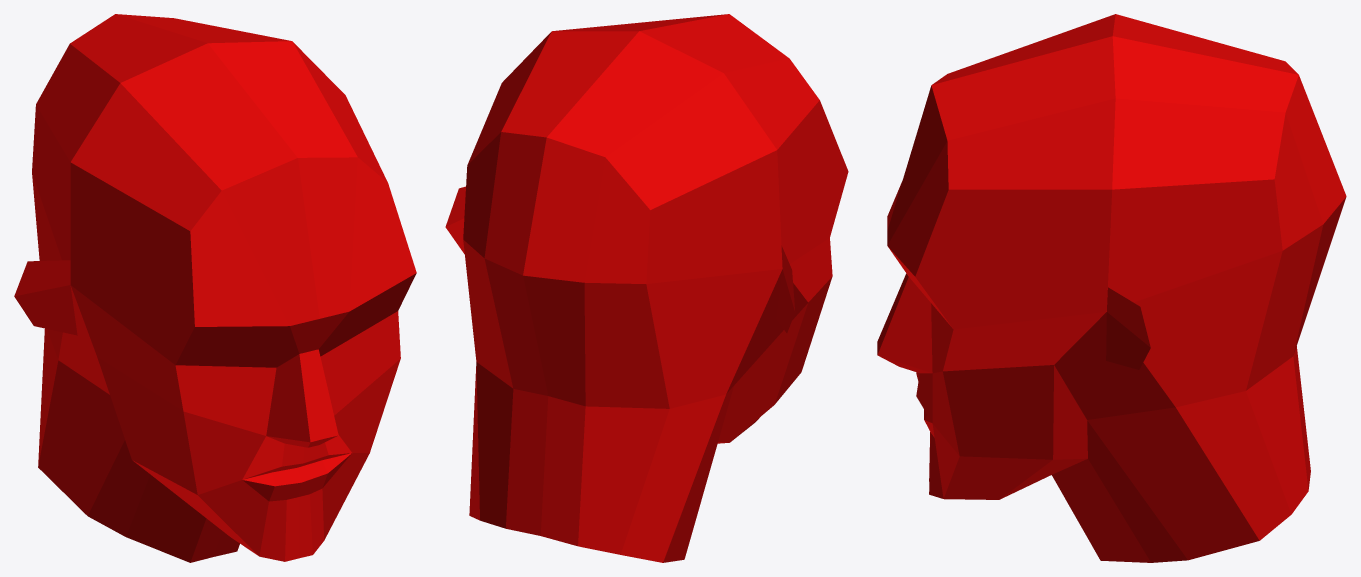
The model's file is Head_BcOrelha.fbx.
The picture shows the model from 3 angles, left to right: view 1: azimuth 30°, elevation 25°; view 2: azimuth 150°, elevation 25°; view 3: azimuth 270°, elevation 25°; orthographic projection.
Parts seen in each view (by area): view 1: Plane; view 2: Plane; view 3: Plane.
Part boxes in pixels (x1,y1,x2,y2): Plane: (14,14,416,562); Plane: (445,14,848,562); Plane: (877,14,1346,562).
Size of the model in its own units: 630 by 878 by 727.
